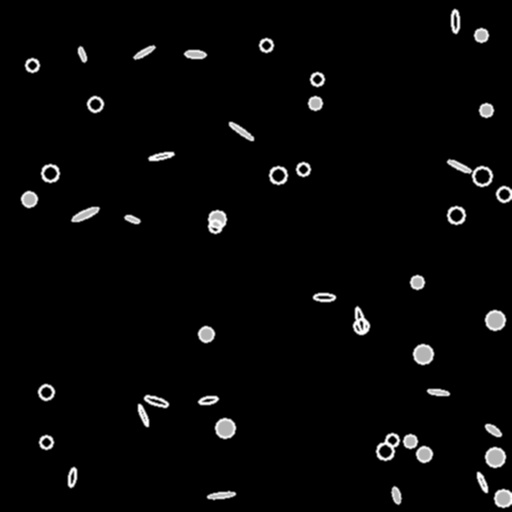pseudomonas: (228, 121, 254, 141), (71, 205, 99, 223), (447, 158, 471, 174), (353, 307, 367, 333), (133, 44, 155, 60), (144, 394, 168, 408), (475, 471, 489, 493), (137, 404, 149, 426), (484, 423, 502, 437), (149, 151, 173, 161), (207, 491, 235, 499), (198, 395, 218, 405), (67, 468, 77, 486), (391, 486, 401, 504), (184, 50, 206, 58), (313, 293, 335, 301), (427, 388, 449, 396), (124, 214, 140, 224), (77, 46, 87, 62), (452, 10, 458, 32)
synechocystis: (216, 419, 234, 437), (414, 345, 432, 363), (486, 311, 504, 329), (486, 448, 504, 466), (473, 167, 491, 185), (270, 167, 286, 183), (209, 211, 225, 227), (448, 207, 464, 223), (377, 443, 393, 459), (495, 490, 511, 506), (42, 165, 58, 181), (417, 447, 431, 461), (22, 192, 36, 206), (39, 385, 53, 399), (354, 319, 368, 333), (199, 327, 213, 341), (497, 187, 511, 201), (88, 97, 102, 111), (475, 29, 487, 41), (386, 434, 398, 446), (311, 73, 323, 85), (26, 59, 38, 71), (40, 436, 52, 448), (260, 39, 272, 51), (209, 220, 221, 232), (404, 435, 416, 447), (411, 276, 423, 288), (480, 104, 492, 116), (297, 163, 309, 175), (309, 97, 321, 109)
